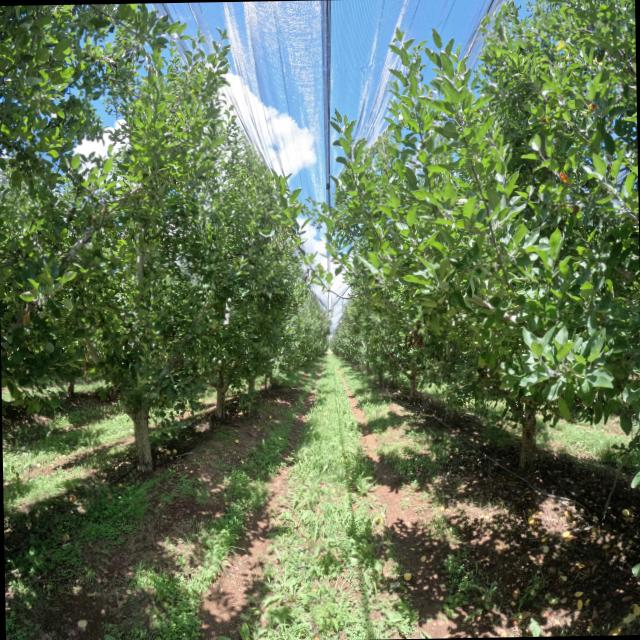-FireBlight-: (15, 299, 42, 327), (402, 321, 424, 351)
